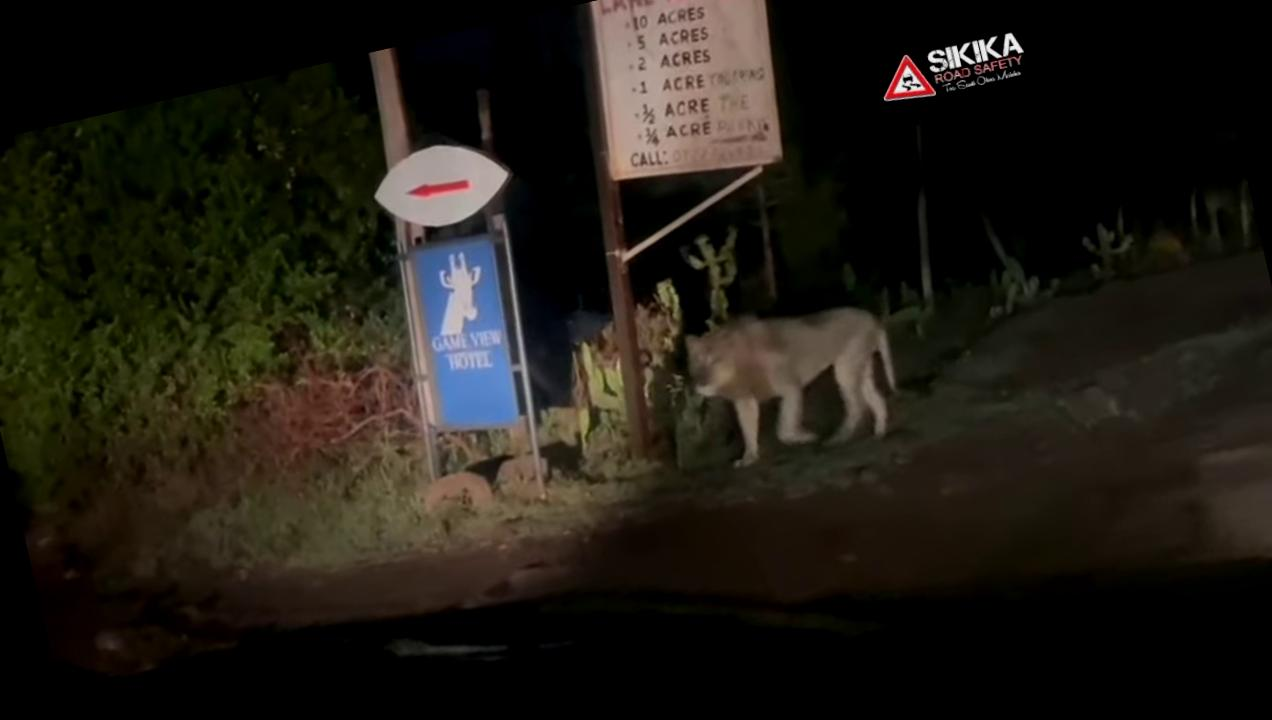lions: (666, 266, 929, 488)
